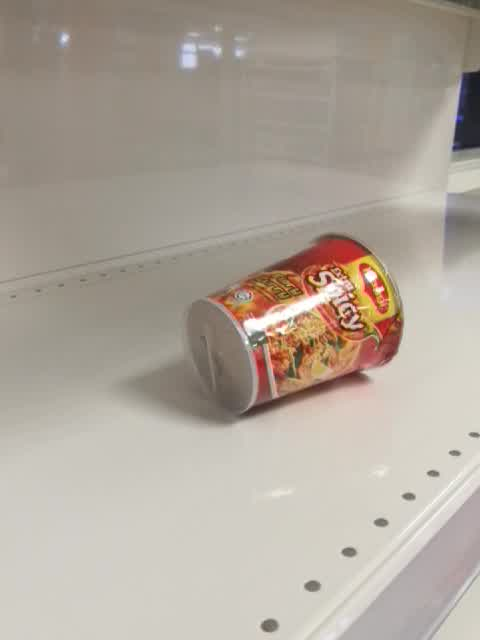maggi: (184, 233, 403, 418)
